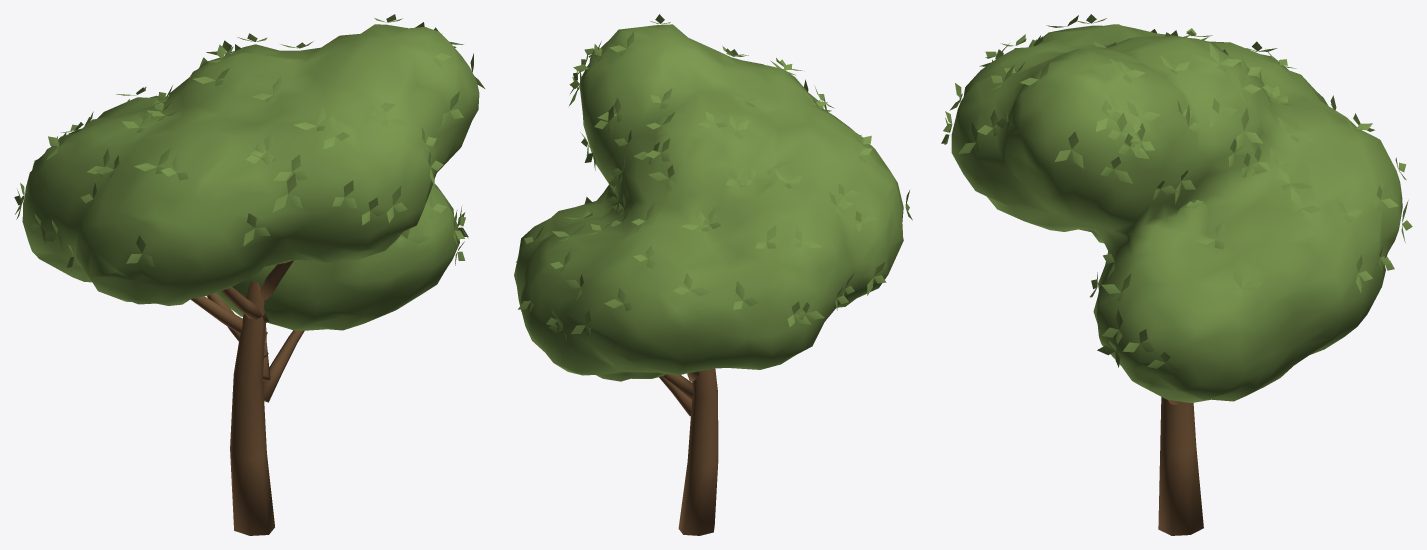
File: layered-b.glb
The picture shows the model from 3 angles, left to right: view 1: azimuth 30°, elevation 25°; view 2: azimuth 150°, elevation 25°; view 3: azimuth 270°, elevation 25°; orthographic projection. The views are drawn at different scales.
Visible parts, largest first — view 1: layered-b; view 2: layered-b; view 3: layered-b.
Part boxes in pixels (x1,y1,x2,y2): layered-b: (14, 14, 484, 535); layered-b: (514, 14, 912, 535); layered-b: (941, 14, 1412, 535).
Size of the model in its own units: 1.79 by 2.18 by 1.78.
